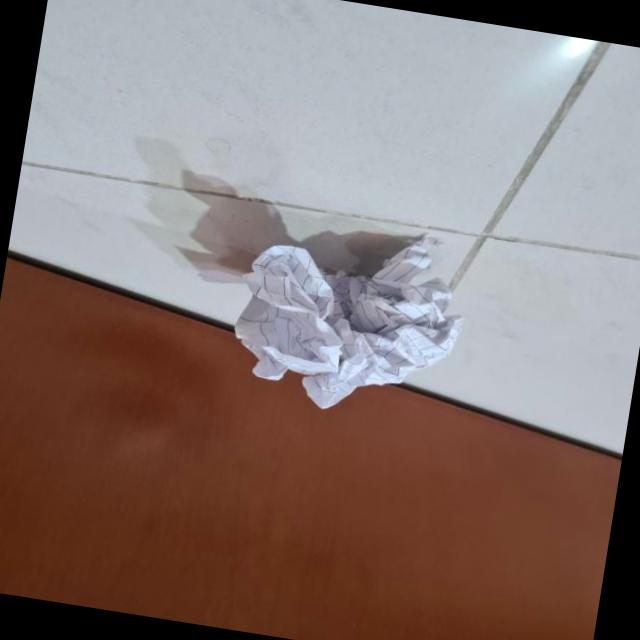cardboard paper: (236, 239, 462, 409)
